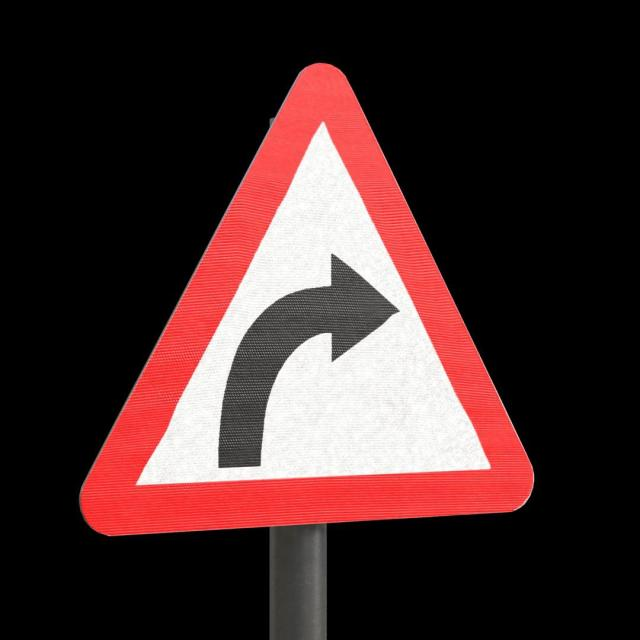Righthand_curve: (74, 64, 542, 541)
